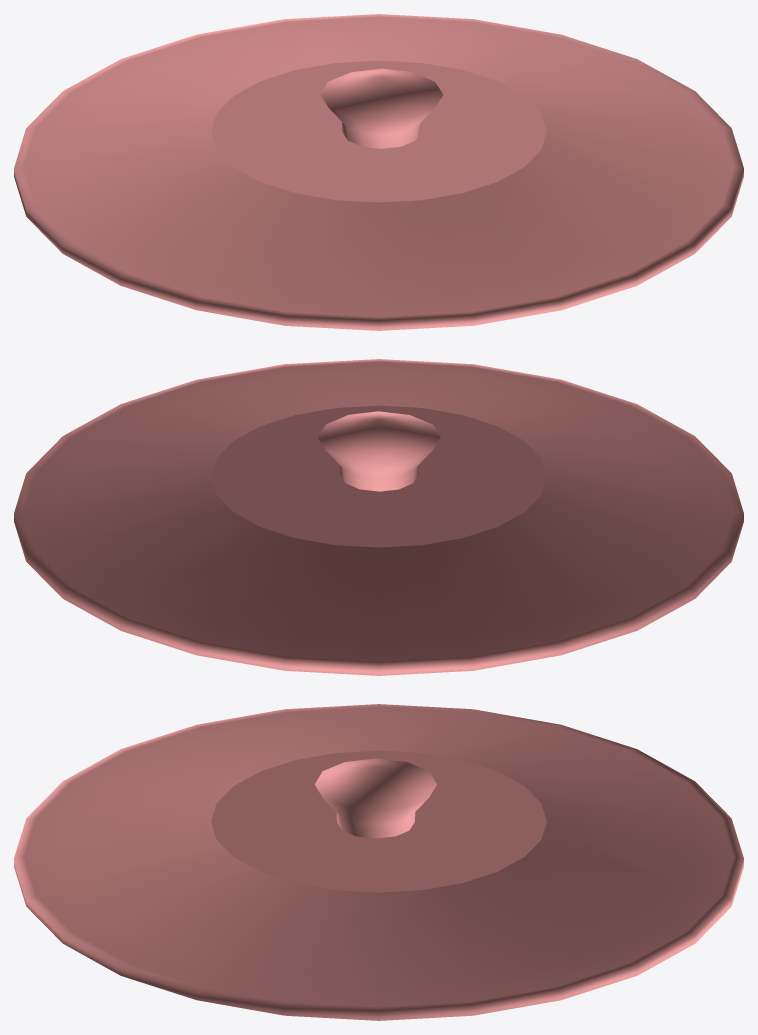
File: TFYK_saucepan_cap_high_poly.FBX
The picture shows the model from 3 angles, top to bottom: view 1: azimuth 30°, elevation 25°; view 2: azimuth 150°, elevation 25°; view 3: azimuth 270°, elevation 25°; orthographic projection.
Visible parts, largest first — view 1: TFYK_saucepan_cap_high_poly; view 2: TFYK_saucepan_cap_high_poly; view 3: TFYK_saucepan_cap_high_poly.
Part boxes in pixels (bbox=[...]): TFYK_saucepan_cap_high_poly: bbox=[14, 14, 743, 330]; TFYK_saucepan_cap_high_poly: bbox=[14, 359, 743, 675]; TFYK_saucepan_cap_high_poly: bbox=[14, 704, 743, 1020].
Size of the model in its own units: 0.1894 by 0.0292 by 0.1894.
